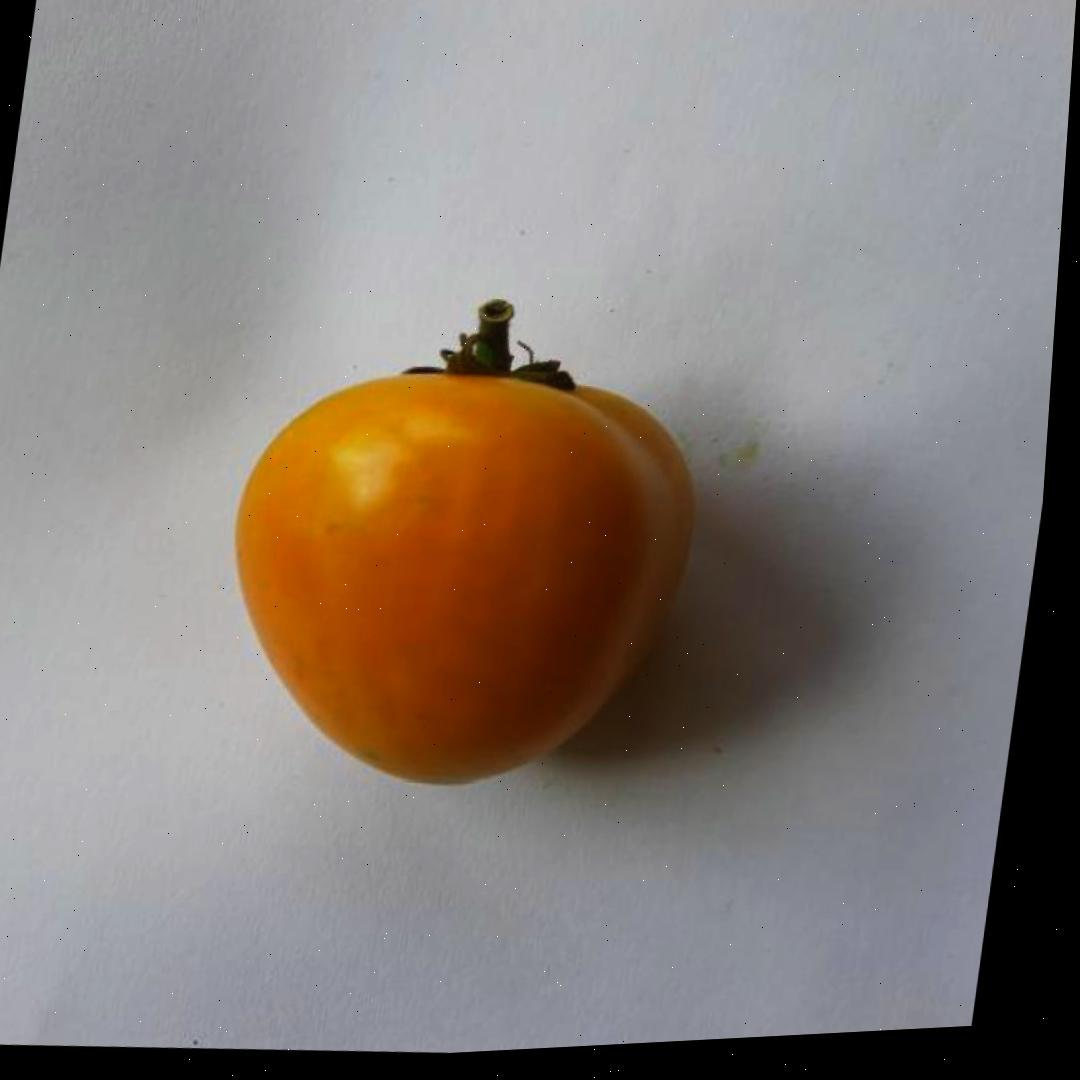setengah_matang: (193, 339, 722, 817)
